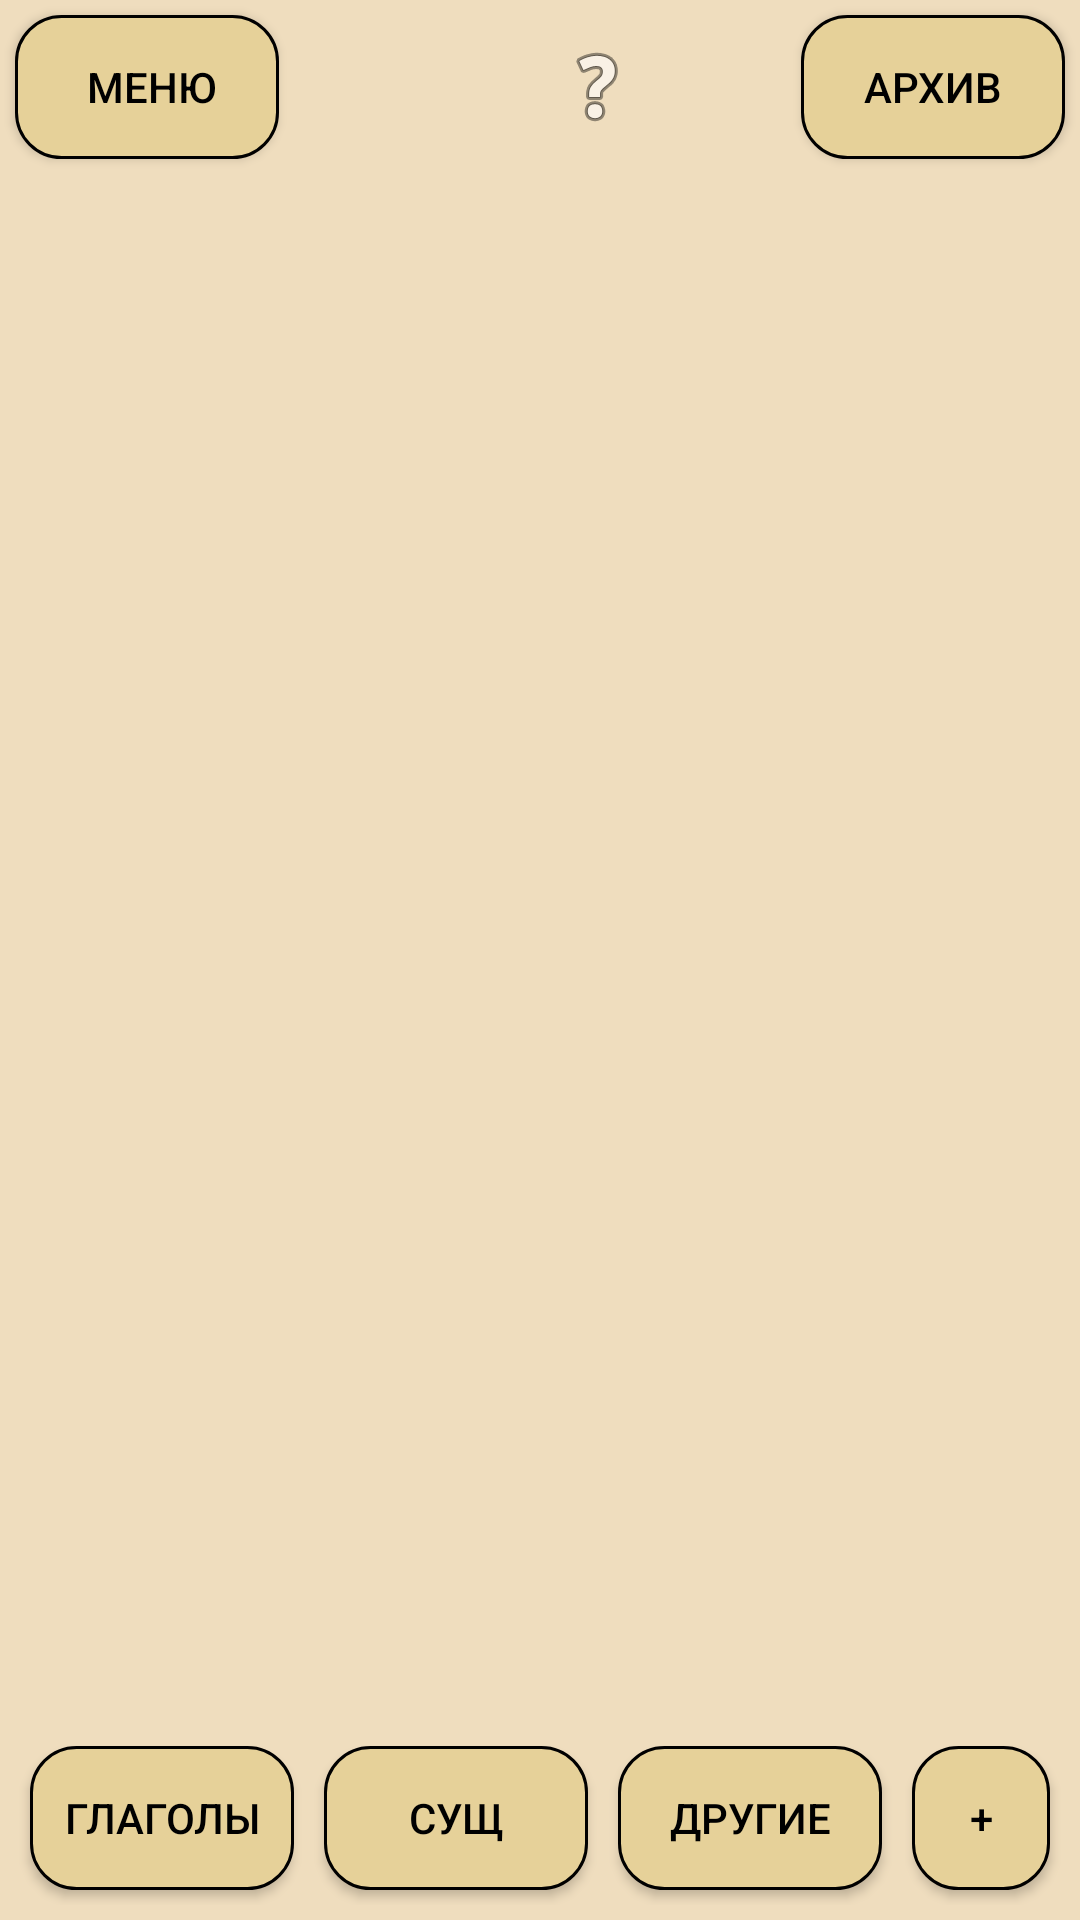

Screen size 1080 × 1920. Icon name, then its box in pixels as box(x1, y1, x2, y2):
help: box(576, 53, 618, 121)
